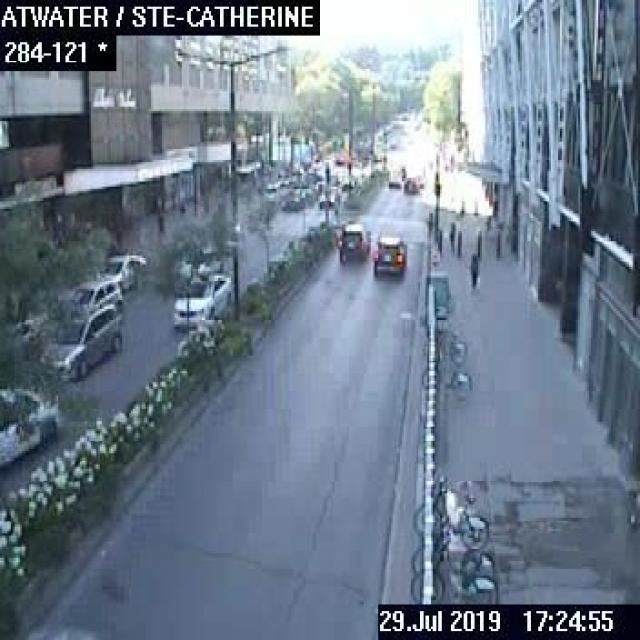pedestrian: (468, 250, 478, 288), (447, 219, 455, 250)
vehicle: (40, 303, 120, 379), (0, 385, 62, 471), (172, 272, 233, 324), (91, 252, 145, 290), (68, 279, 121, 313), (372, 234, 406, 274), (336, 222, 369, 260), (318, 185, 338, 207), (280, 192, 304, 210), (401, 175, 417, 193), (387, 172, 400, 186)
